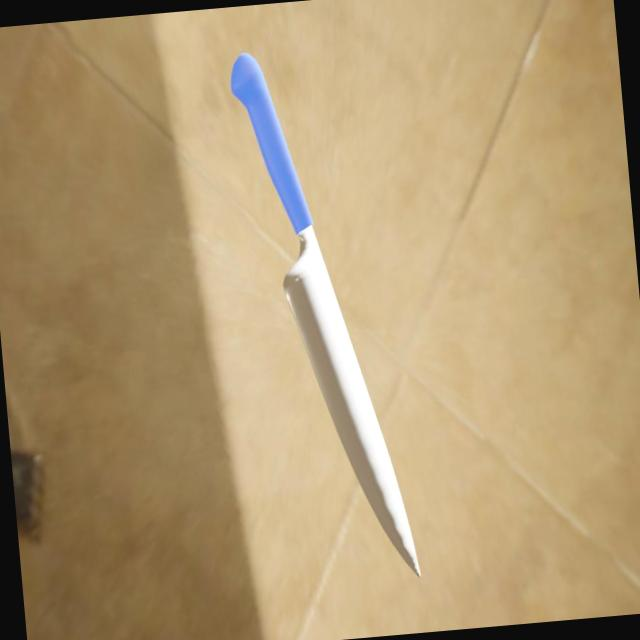knife: (228, 48, 314, 242)
